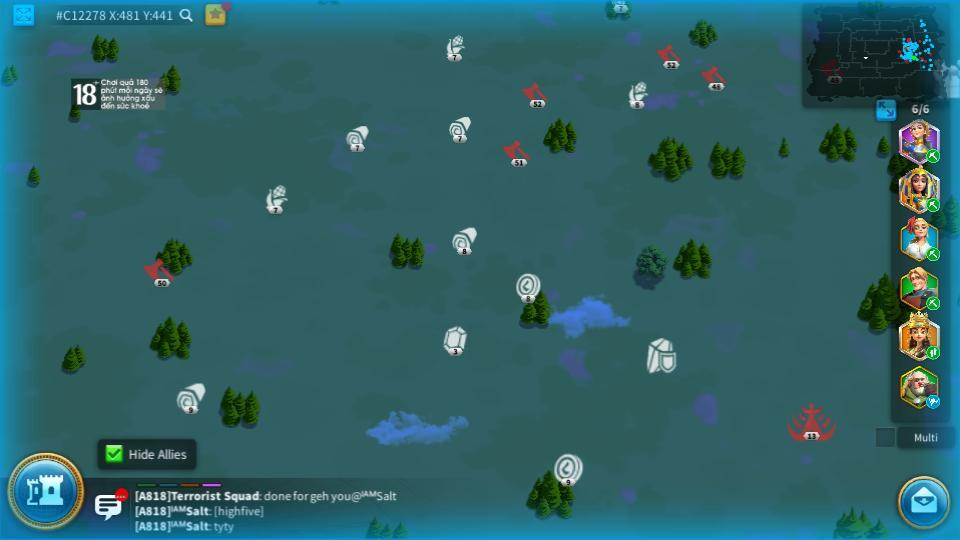gem-z-out: (443, 326, 467, 353)
march_farming: (923, 197, 940, 212), (924, 148, 939, 163), (926, 297, 941, 308)
march_idle: (925, 396, 942, 408)
march_marching: (925, 347, 941, 359)
